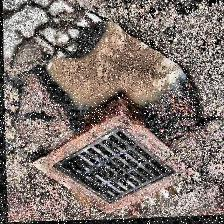pothole: (29, 10, 218, 156)
